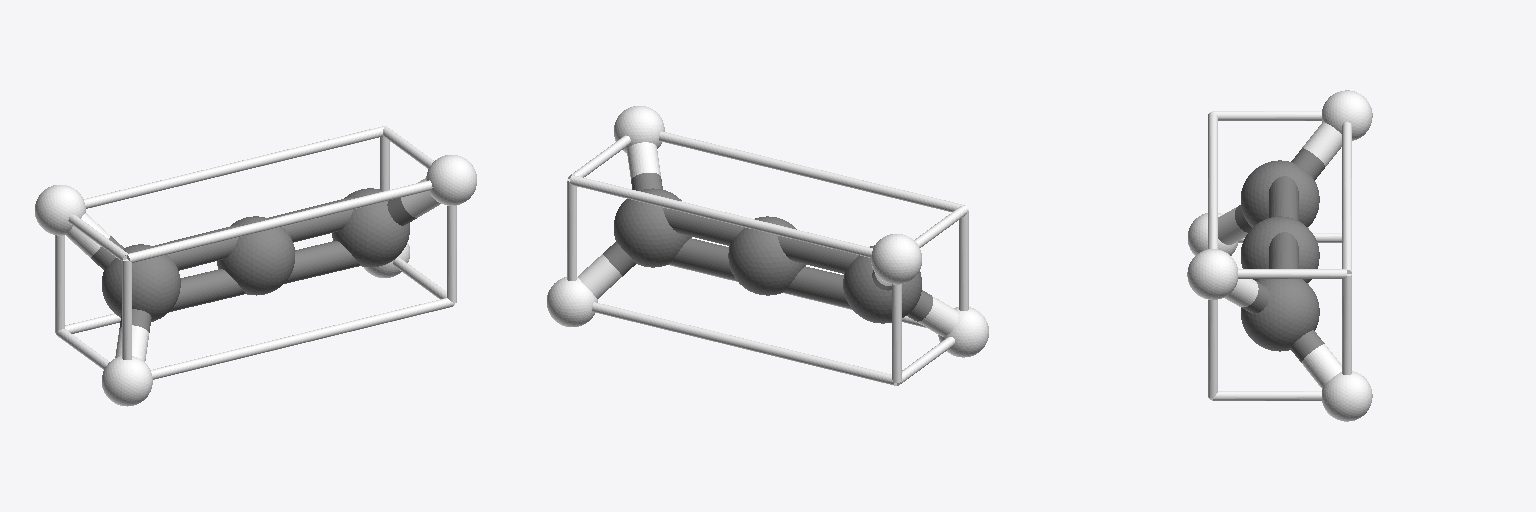
File: allene.obj
3 renders of one model, left to right at view 1: azimuth 30°, elevation 25°; view 2: azimuth 150°, elevation 25°; view 3: azimuth 270°, elevation 25°, orthographic.
Parts seen in each view (by area): view 1: C2_Atom, C3_Atom, C1_Atom, Cylinder20, Cylinder17, Cylinder19, H6_Atom, H4_Atom, H7_Atom, Cylinder12, Cylinder10, Cylinder11 (+12 smaller); view 2: C2_Atom, C1_Atom, Cylinder19, Cylinder15, Cylinder20, C3_Atom, H7_Atom, H5_Atom, Cylinder10, Cylinder12, H4_Atom, Cylinder11 (+12 smaller); view 3: C1_Atom, C3_Atom, C2_Atom, H4_Atom, H5_Atom, H7_Atom, Cylinder19, Cylinder20, Cylinder9, Cylinder24, Cylinder21, Cylinder18 (+10 smaller).
Part boxes in pixels (left/top/right/bottom): C2_Atom: left=217, top=216, right=294, bottom=295; C3_Atom: left=102, top=244, right=180, bottom=321; C1_Atom: left=332, top=188, right=409, bottom=267; Cylinder20: left=127, top=180, right=432, bottom=262; Cylinder17: left=151, top=298, right=453, bottom=379; Cylinder19: left=84, top=126, right=383, bottom=208; H6_Atom: left=102, top=356, right=152, bottom=406; H4_Atom: left=426, top=155, right=476, bottom=205; H7_Atom: left=35, top=185, right=85, bottom=235; Cylinder12: left=284, top=241, right=359, bottom=283; Cylinder10: left=170, top=269, right=245, bottom=311; Cylinder11: left=268, top=197, right=353, bottom=242; C2_Atom: left=728, top=216, right=805, bottom=295; C1_Atom: left=614, top=188, right=691, bottom=267; Cylinder19: left=570, top=175, right=872, bottom=257; Cylinder15: left=592, top=302, right=894, bottom=385; Cylinder20: left=659, top=131, right=963, bottom=211; C3_Atom: left=843, top=245, right=921, bottom=323; H7_Atom: left=871, top=234, right=921, bottom=284; H5_Atom: left=547, top=277, right=597, bottom=326; Cylinder10: left=784, top=266, right=850, bottom=307; Cylinder12: left=670, top=238, right=735, bottom=279; H4_Atom: left=614, top=106, right=664, bottom=152; Cylinder11: left=663, top=208, right=744, bottom=245; C1_Atom: left=1241, top=279, right=1319, bottom=351; C3_Atom: left=1241, top=160, right=1319, bottom=227; C2_Atom: left=1241, top=216, right=1319, bottom=282; H4_Atom: left=1187, top=249, right=1237, bottom=299; H5_Atom: left=1322, top=371, right=1372, bottom=421; H7_Atom: left=1322, top=90, right=1372, bottom=140; Cylinder19: left=1342, top=122, right=1351, bottom=271; Cylinder20: left=1208, top=111, right=1217, bottom=248; Cylinder9: left=1269, top=176, right=1298, bottom=220; Cylinder24: left=1238, top=269, right=1346, bottom=278; Cylinder21: left=1213, top=391, right=1321, bottom=400; Cylinder18: left=1213, top=111, right=1321, bottom=120.
Bounding box in the file's own units: 4.2 × 1.83 × 1.83.